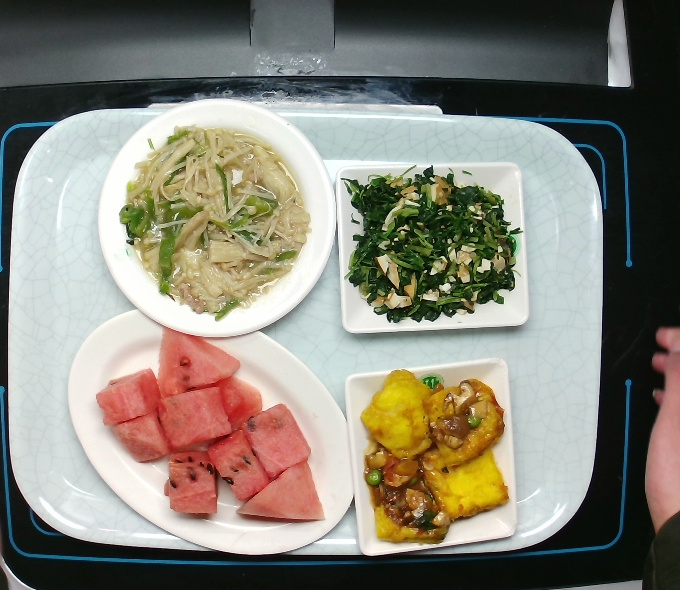wcq-CuiPiDouFu: (357, 367, 515, 546)
wcq-JinZhenGu: (115, 121, 315, 324)
wcq-MaLanTouChaoDouGan: (340, 161, 528, 326)
wcq-XiGua: (93, 321, 328, 528)
